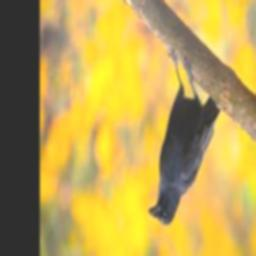Crow: (148, 46, 222, 226)
